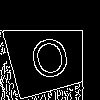O: (25, 26, 73, 82)
